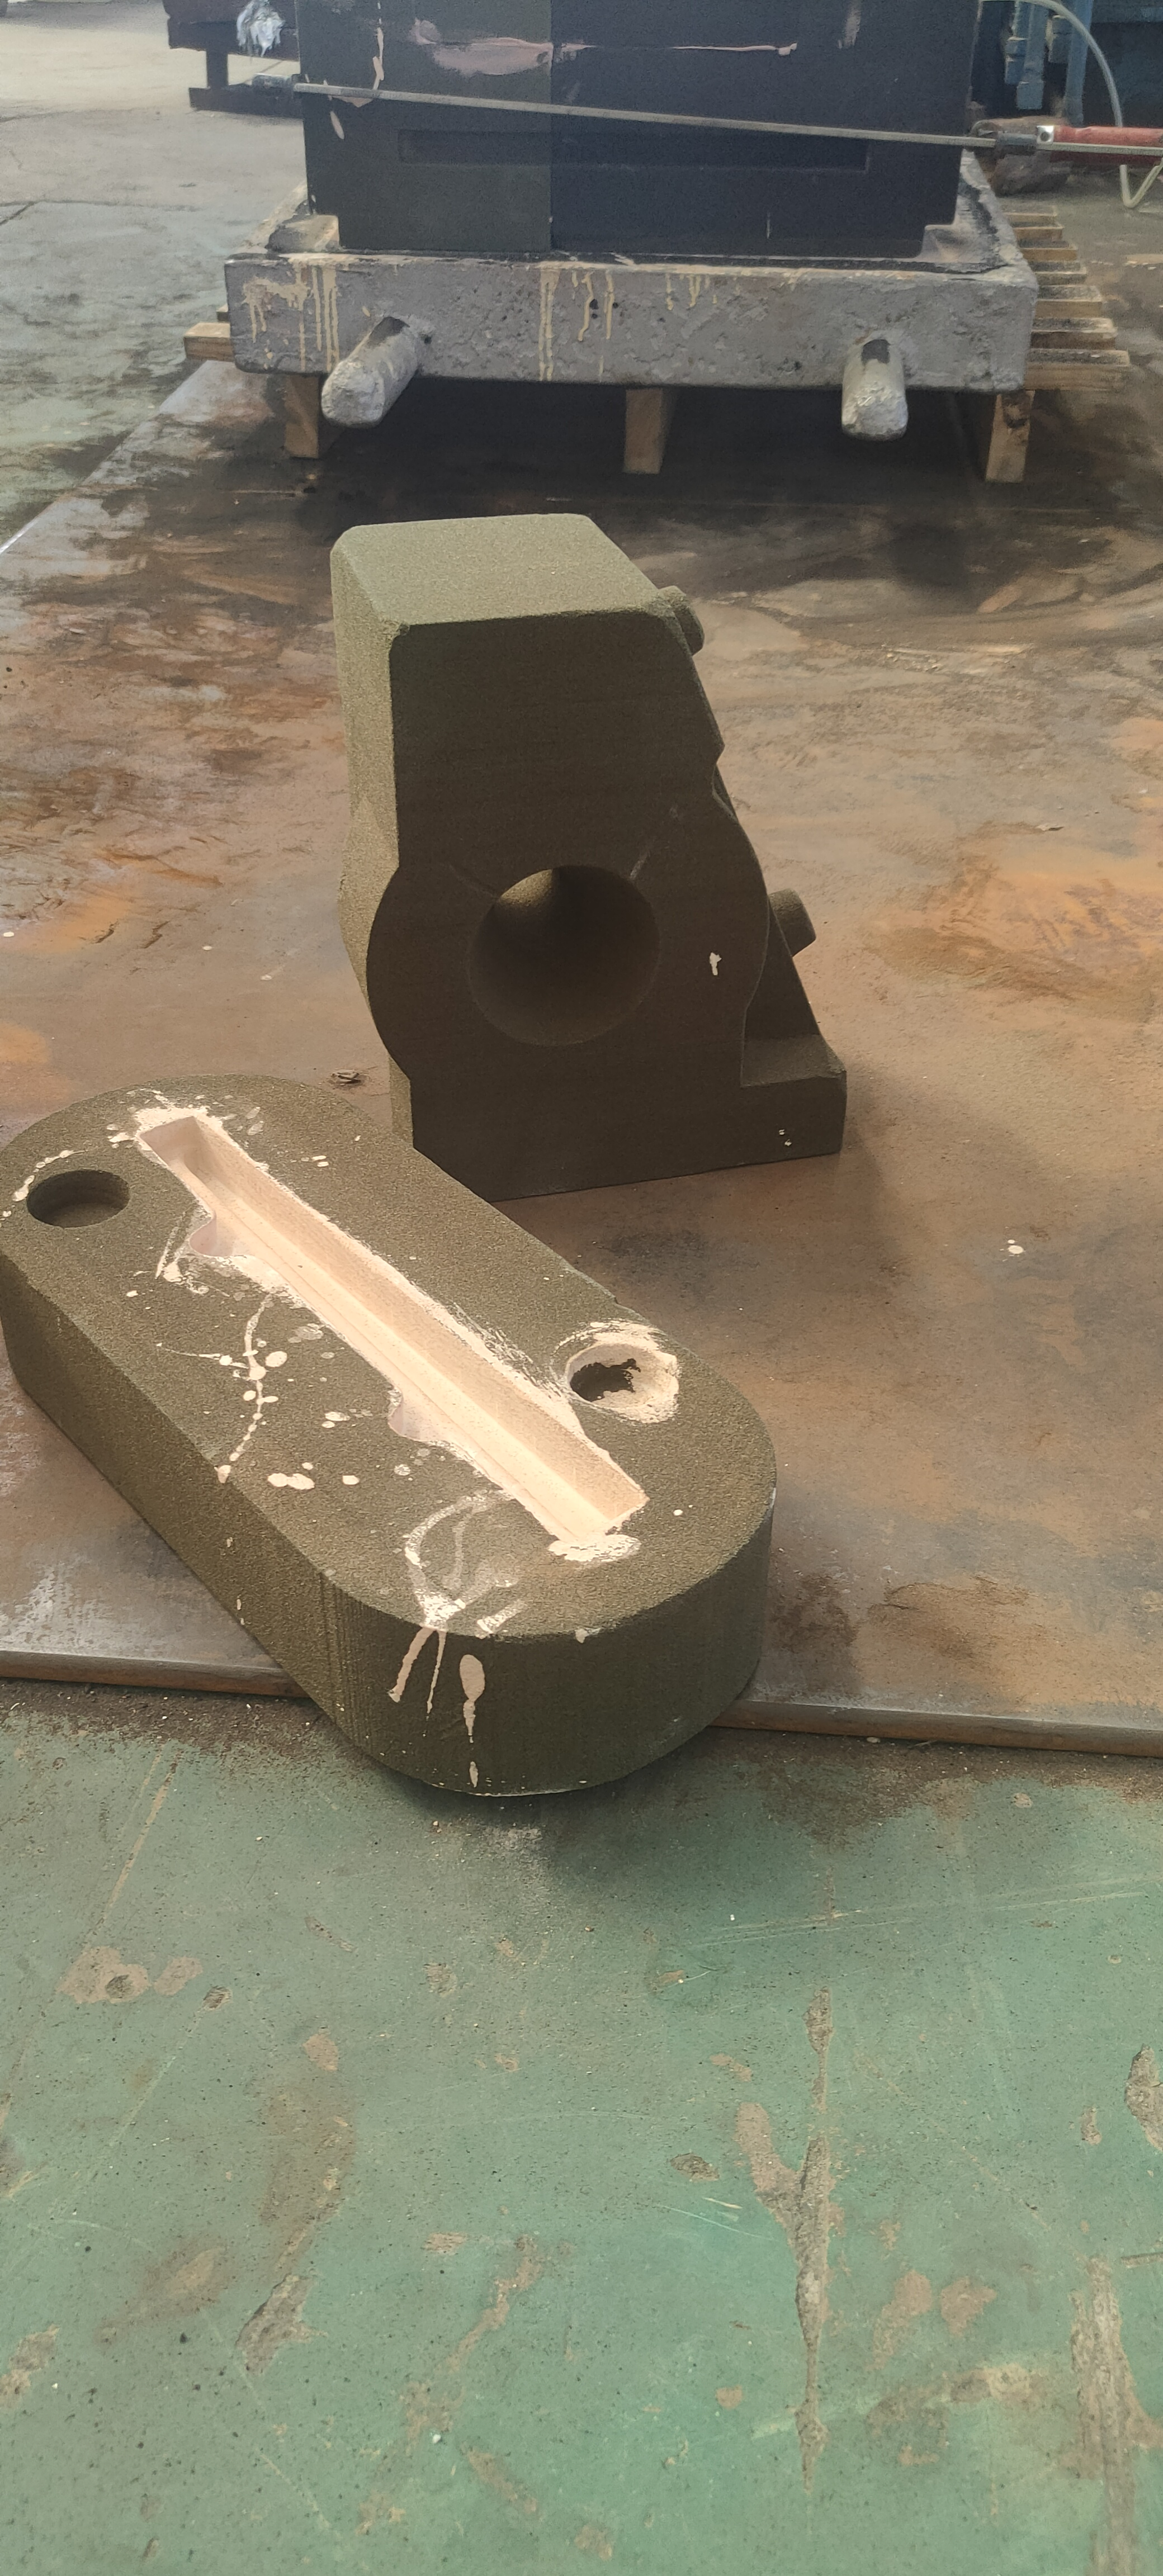pouring hole: (467, 864, 660, 1048)
